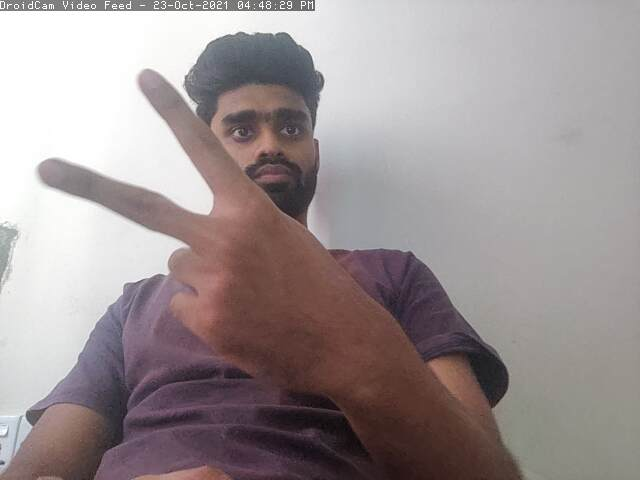Victory: (40, 66, 279, 383)
